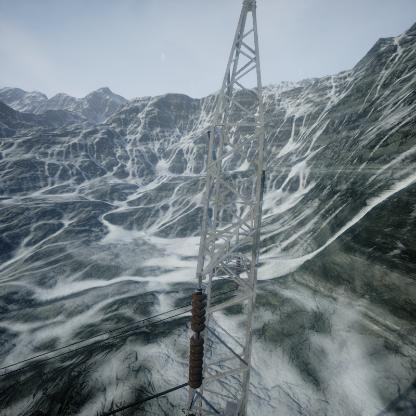insulator: (187, 288, 208, 388)
